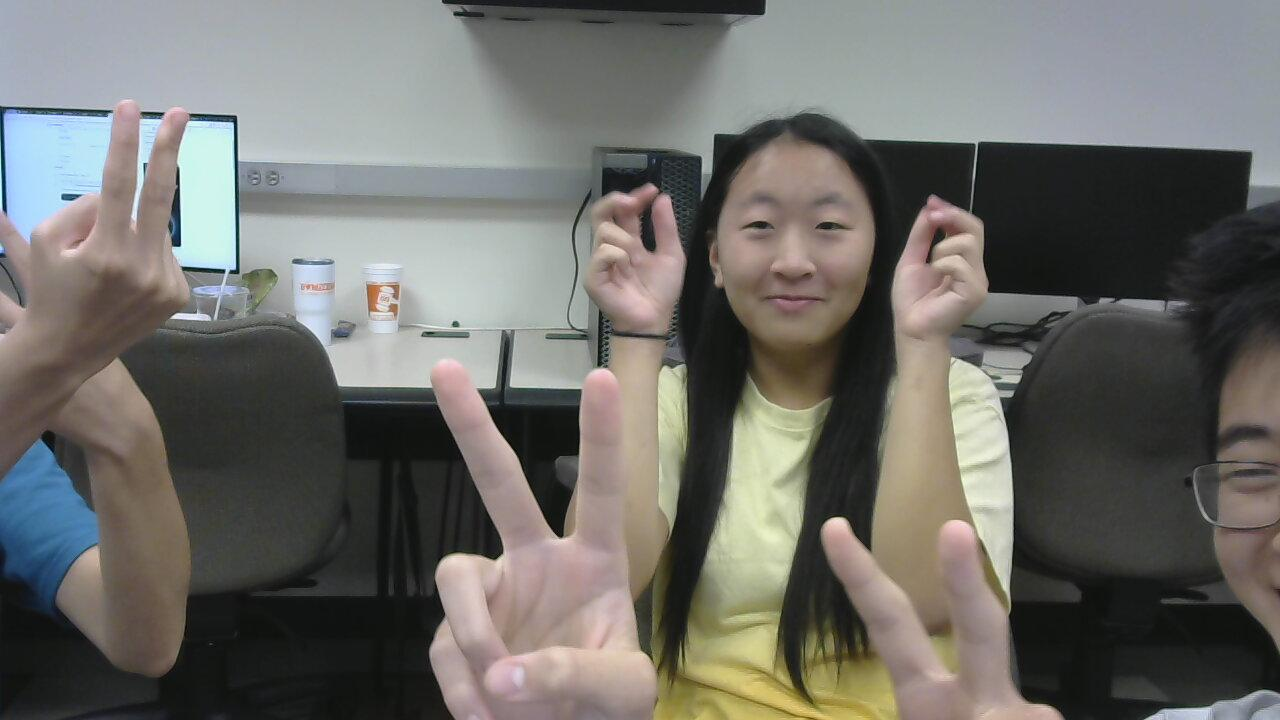hands: (891, 192, 1004, 350), (579, 172, 684, 340)
peace: (412, 353, 640, 720), (794, 502, 1128, 720), (11, 93, 197, 340)
